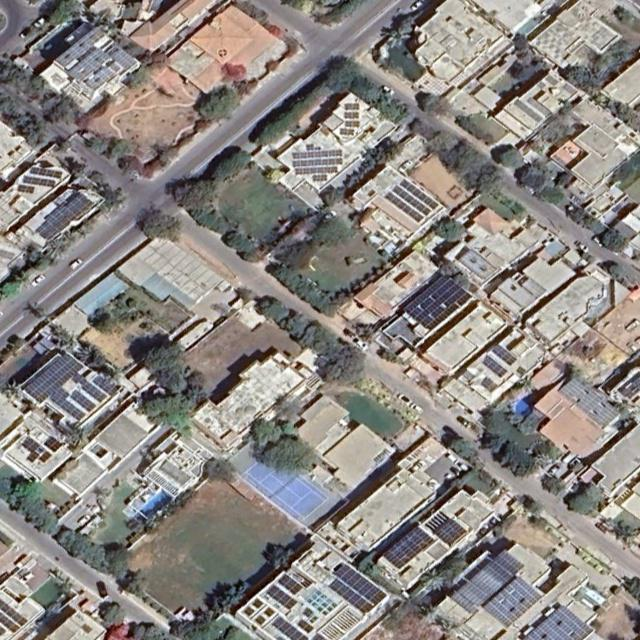solar panel: (452, 550, 525, 614), (404, 274, 473, 331), (560, 376, 621, 427), (484, 576, 542, 628), (24, 353, 83, 404), (37, 192, 93, 240), (523, 604, 594, 639), (384, 526, 433, 569), (335, 564, 387, 604), (56, 27, 100, 68), (330, 579, 373, 614), (68, 49, 110, 82), (385, 191, 424, 223), (393, 185, 431, 216), (400, 179, 439, 209), (52, 387, 86, 421), (72, 372, 108, 402), (459, 250, 496, 279), (271, 616, 309, 639), (435, 519, 466, 545), (0, 599, 28, 627), (112, 43, 136, 71), (268, 586, 297, 609), (86, 67, 115, 90), (482, 355, 508, 378), (492, 344, 518, 366), (71, 390, 96, 411), (279, 575, 304, 595), (292, 149, 342, 159), (293, 158, 343, 168), (93, 376, 117, 396), (22, 436, 40, 462), (30, 166, 63, 179), (0, 613, 20, 633), (295, 167, 338, 175), (24, 176, 55, 187), (45, 435, 63, 453), (39, 451, 52, 462), (482, 377, 494, 388), (18, 185, 34, 193), (313, 175, 328, 182), (340, 128, 354, 135), (345, 112, 358, 119), (345, 122, 360, 128), (345, 104, 359, 110)
